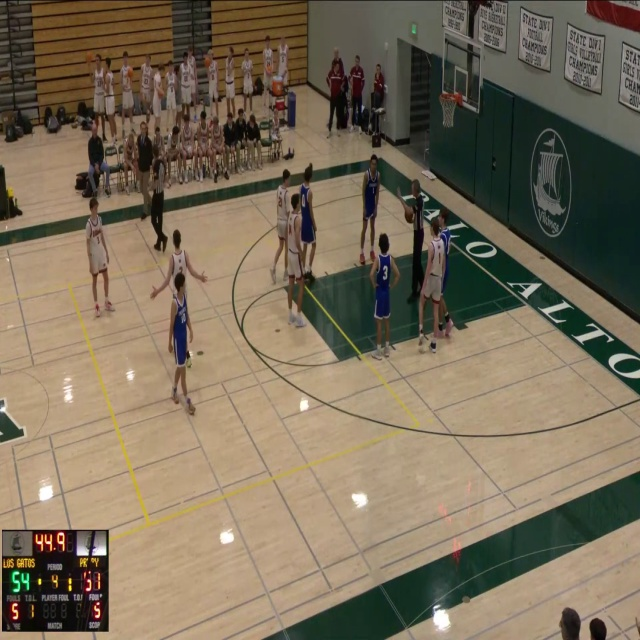Basketball: (405, 210, 414, 223)
